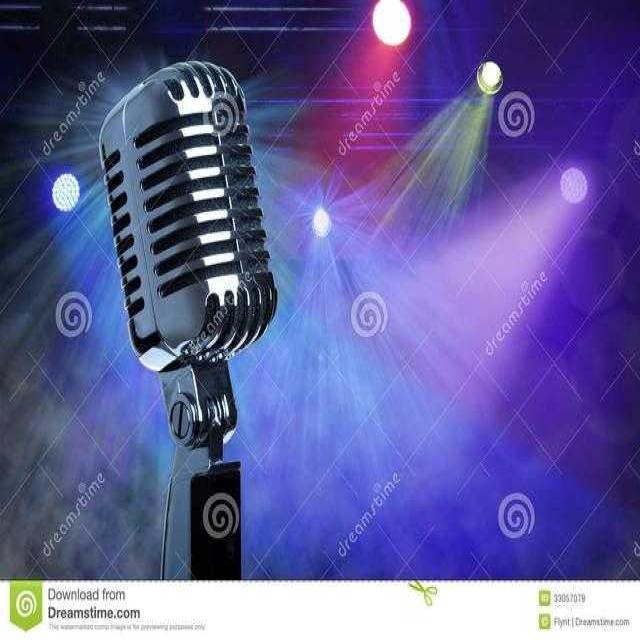microphone: (100, 63, 277, 578)
